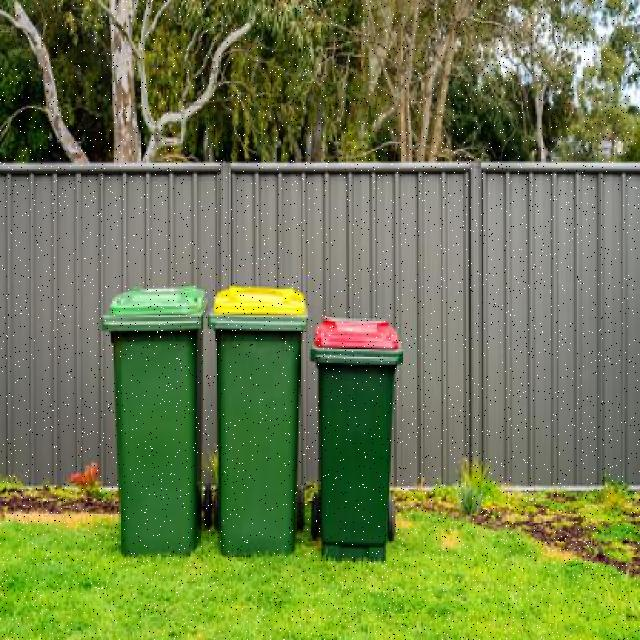garbage container: (97, 270, 212, 559), (212, 277, 318, 568), (308, 302, 407, 576)
